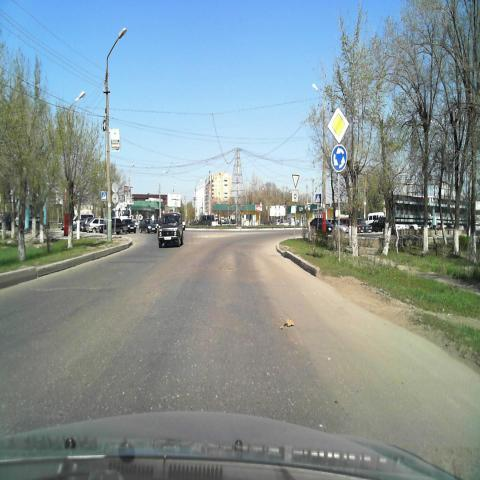4_3: (331, 145, 347, 174)
